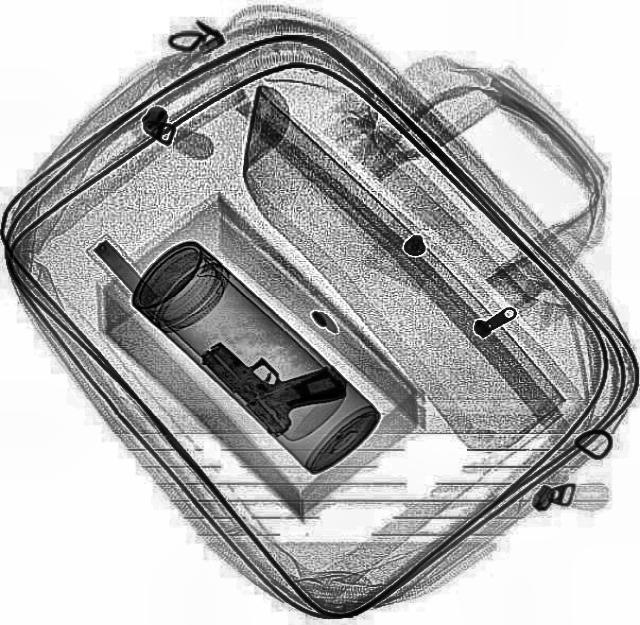Gun: (197, 305, 349, 444)
